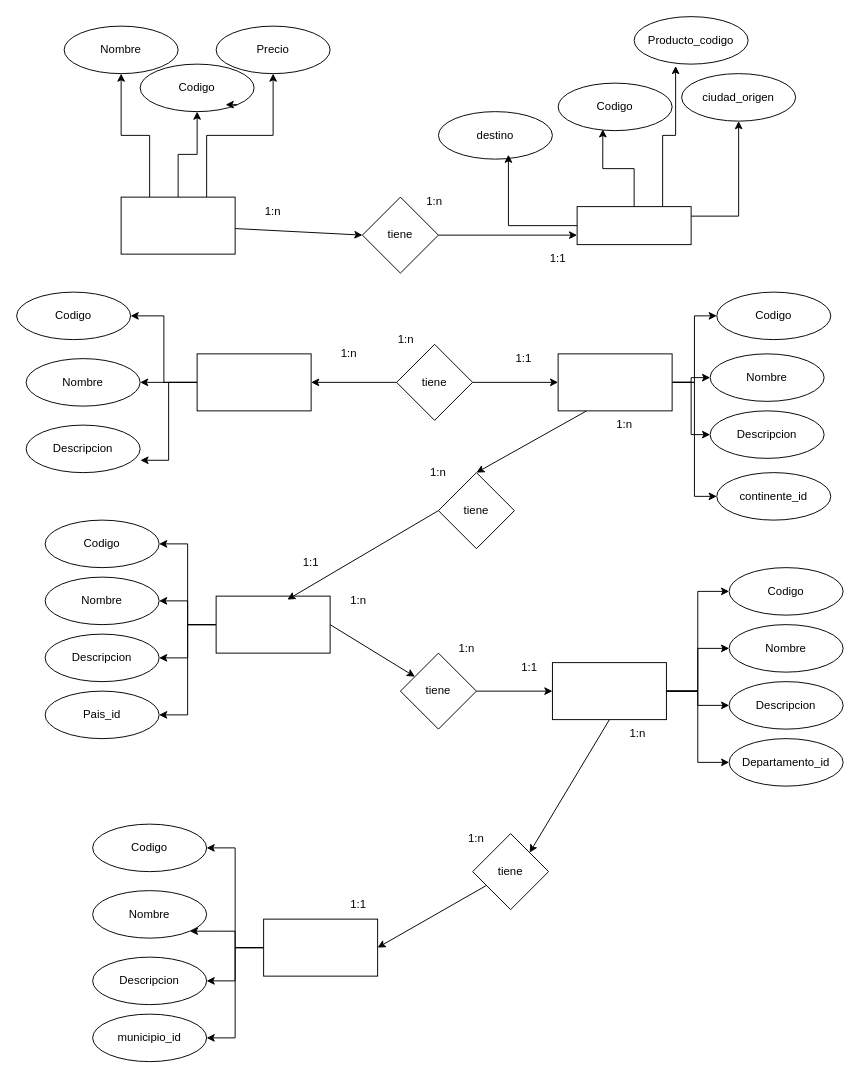
Some shapes in this 860 by 1078 pixel diagram are drawn without their labels. Here are the shapes that lost their labels. From the top down, the box of each, then its label:
(120, 196, 235, 254): Producto
(576, 206, 691, 245): Pedido
(196, 353, 311, 411): Continente
(557, 353, 672, 411): Pais
(215, 595, 330, 653): Departamento
(551, 662, 666, 720): Municipio
(263, 918, 378, 976): Barrio
